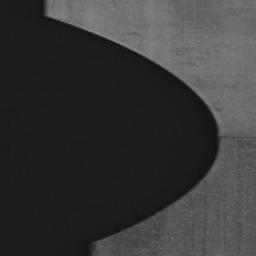Crescent gap: (48, 17, 220, 242)
